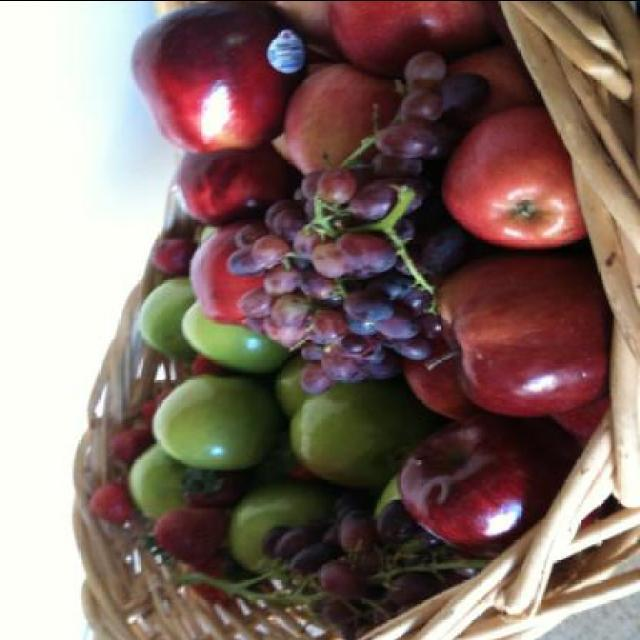Apple pie: (126, 1, 609, 585), (451, 120, 589, 248)
